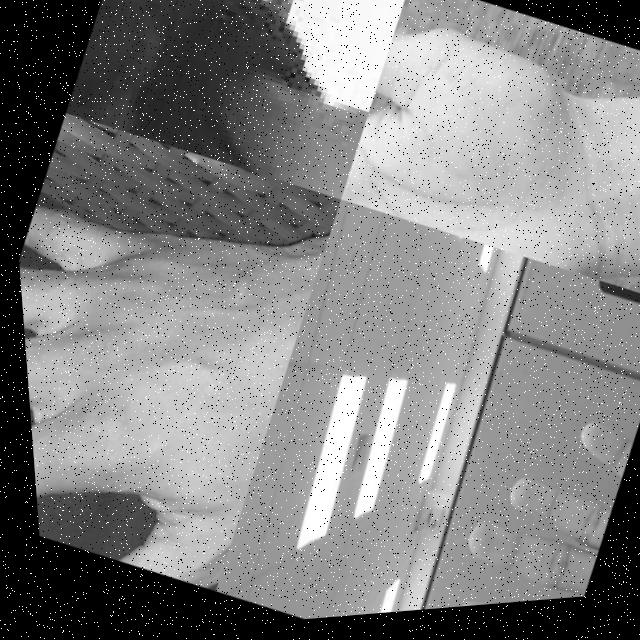hand: (7, 104, 355, 605), (326, 2, 640, 297), (400, 389, 638, 616)
